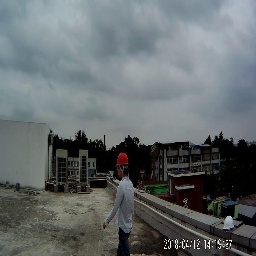helmet: (115, 151, 129, 170)
no-vest: (118, 176, 135, 241)
person: (113, 151, 136, 256)
